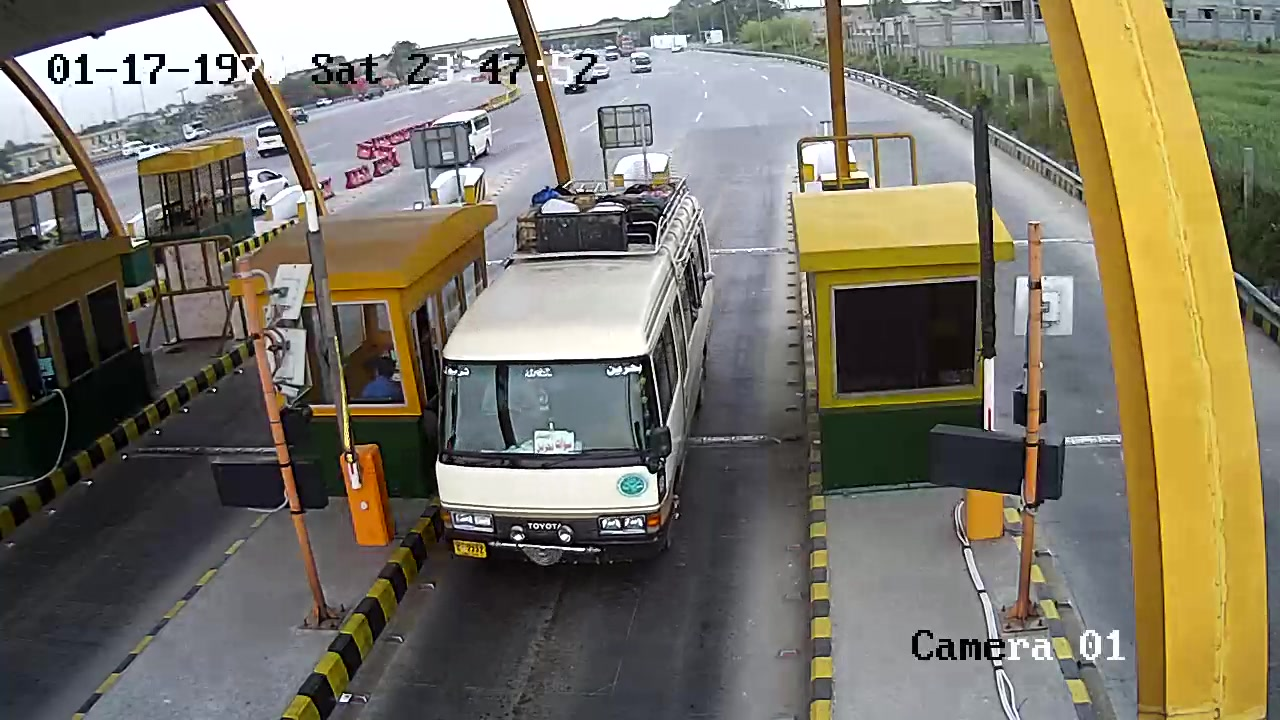F3: (443, 168, 715, 564)
